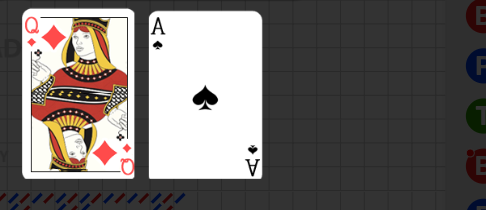AS: (151, 16, 168, 54), (243, 141, 260, 177)
QD: (78, 132, 122, 179), (11, 12, 55, 58)
